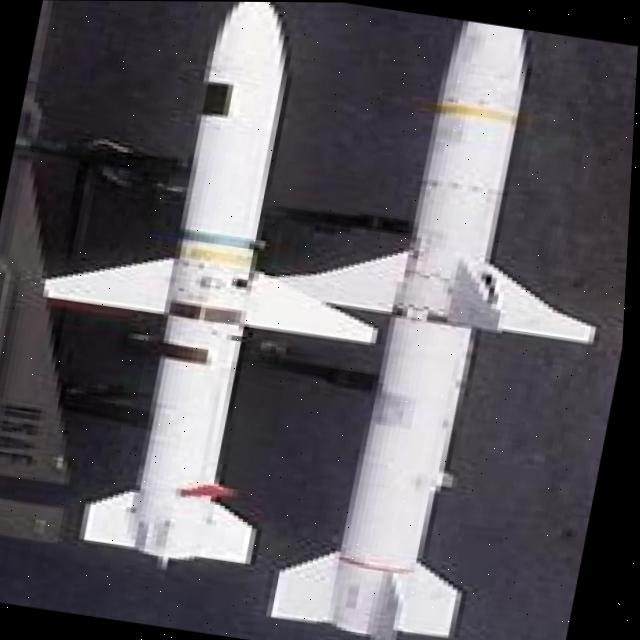missile: (214, 7, 640, 640), (0, 0, 441, 580)
